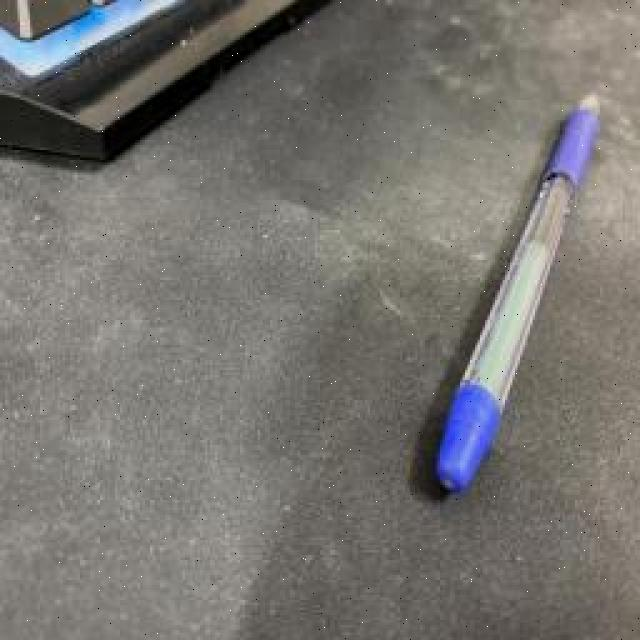pen: (438, 90, 602, 500)
